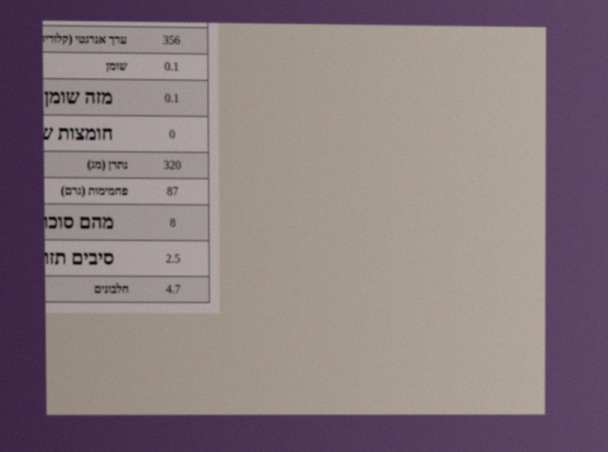carbs: (165, 183, 180, 199)
energy: (161, 32, 182, 48)
fat: (163, 58, 180, 74)
protein: (164, 281, 182, 297)
